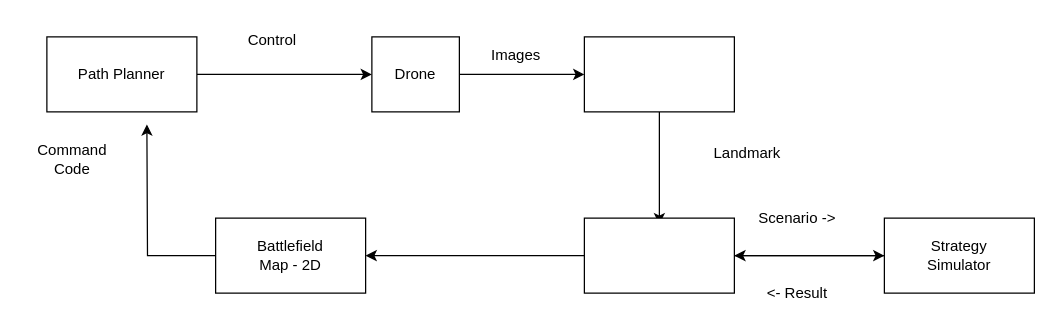
The diagram is 1056 pixels wide and 333 high, and some of its shapes have lost their labels. Each missing label, with the box of its shape:
Engine LLM Agents: (583, 217, 734, 293)
Vision Language Model: (583, 36, 734, 112)
